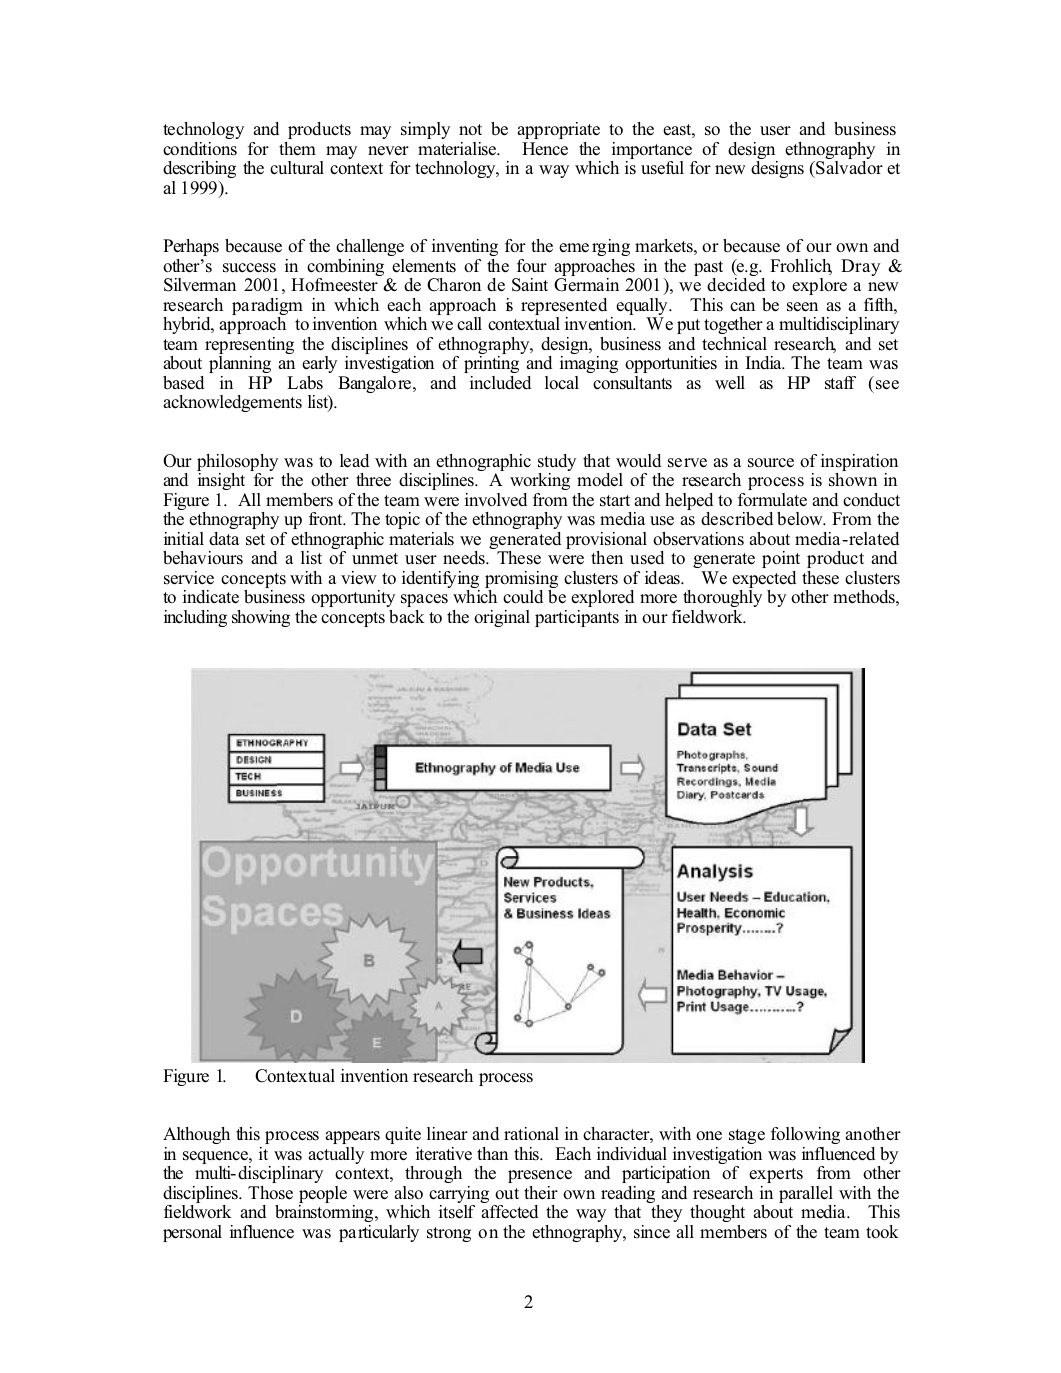figure: (191, 668, 864, 1063)
